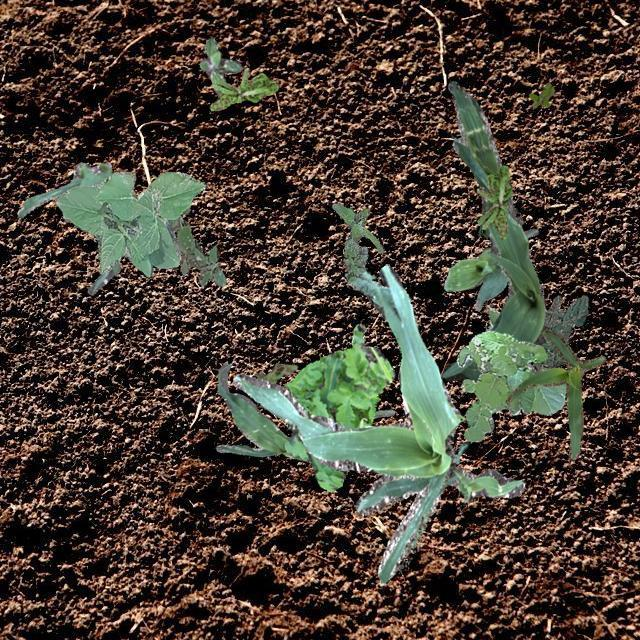crop: (232, 264, 524, 582), (441, 80, 548, 380), (215, 362, 394, 460), (54, 170, 204, 276), (16, 160, 120, 294), (504, 328, 604, 458), (484, 306, 566, 414), (442, 228, 538, 310)
weed: (284, 322, 394, 492), (456, 329, 546, 442), (530, 294, 588, 374), (170, 206, 224, 286), (332, 202, 382, 280), (208, 66, 278, 110), (476, 165, 512, 238), (198, 36, 240, 84), (253, 362, 296, 383), (528, 82, 554, 106), (507, 406, 519, 414)
